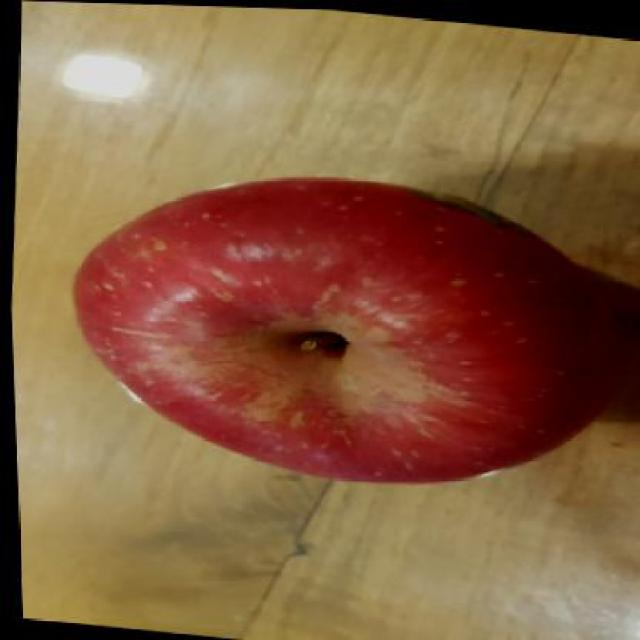Fresh Apple: (65, 170, 624, 492)
